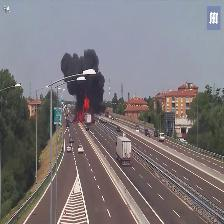fire: (81, 95, 92, 110)
